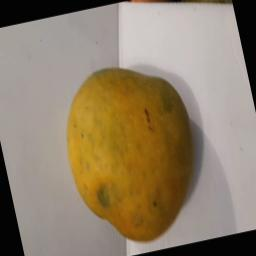Mango Ripe: (40, 47, 220, 256)
